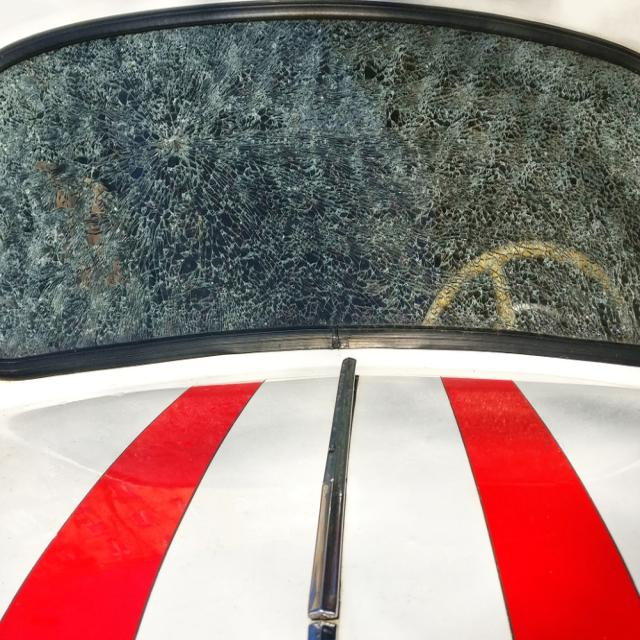glass shatter: (0, 16, 640, 359)
